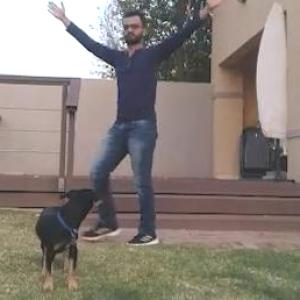takeoff: (38, 0, 240, 246)
